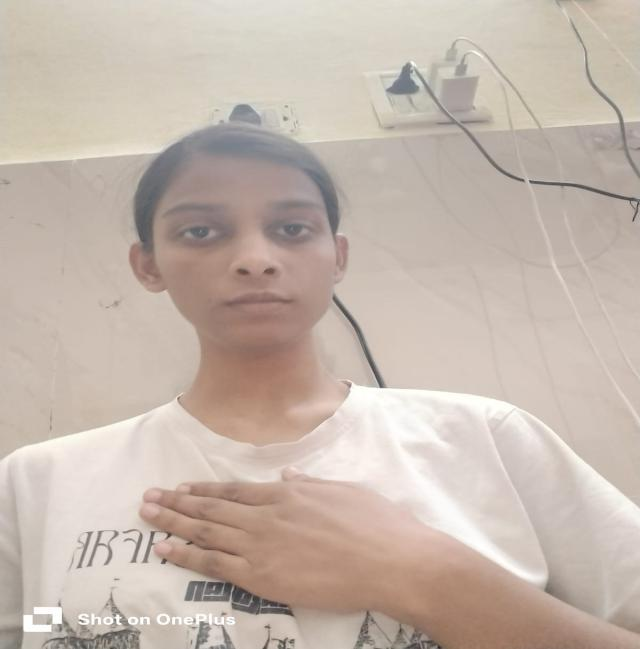Please: (128, 457, 443, 622)
